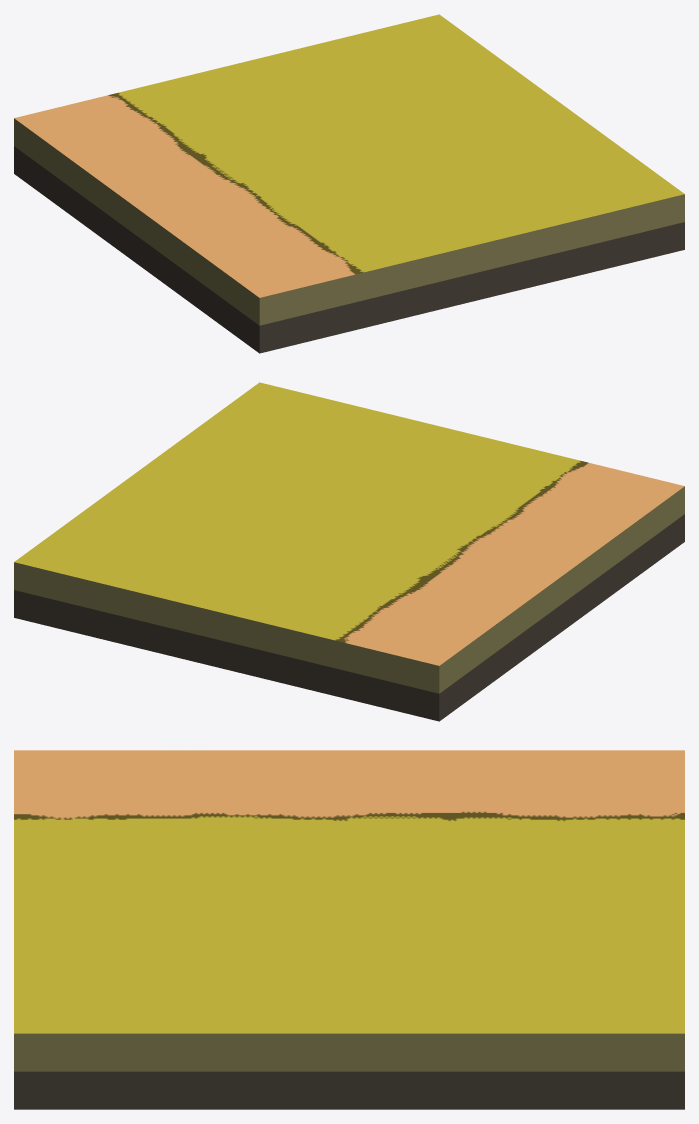
The model's file is tile2_2 sand top.fbx.
The picture shows the model from 3 angles, top to bottom: view 1: azimuth 30°, elevation 25°; view 2: azimuth 150°, elevation 25°; view 3: azimuth 270°, elevation 25°; orthographic projection. The views are drawn at different scales.
Parts seen in each view (by area): view 1: Cube.001; view 2: Cube.001; view 3: Cube.001.
Boxes of the visible parts, x1,y1,x2,y2 form: Cube.001: (14,14,684,353); Cube.001: (14,382,684,721); Cube.001: (14,750,684,1109).
Bounding box in the file's own units: 400 × 50 × 400.
Materials: 1 (1 with a texture image).
